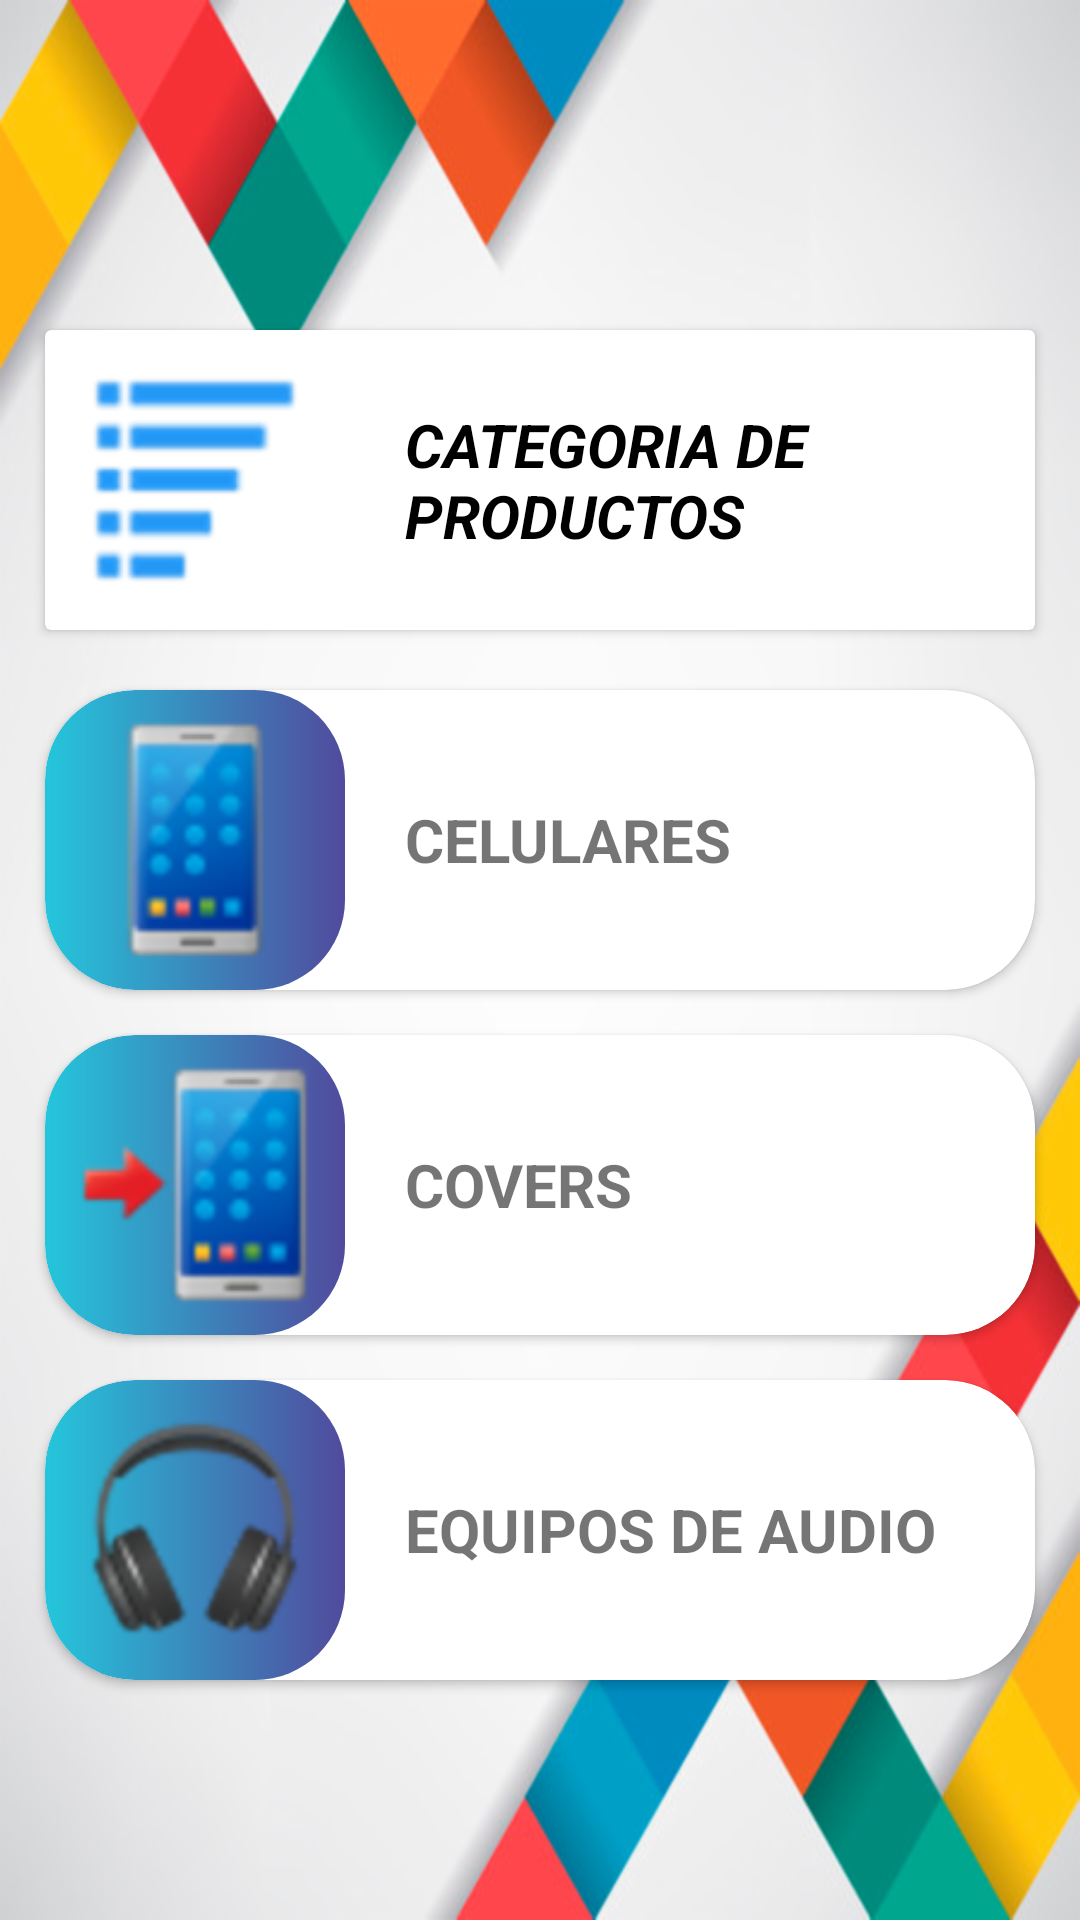

Icon click points for this 1080px x 1920px phone screenshot, format [x,y]:
category: [195,480]
headphone: [195,1530]
phone: [195,840]
